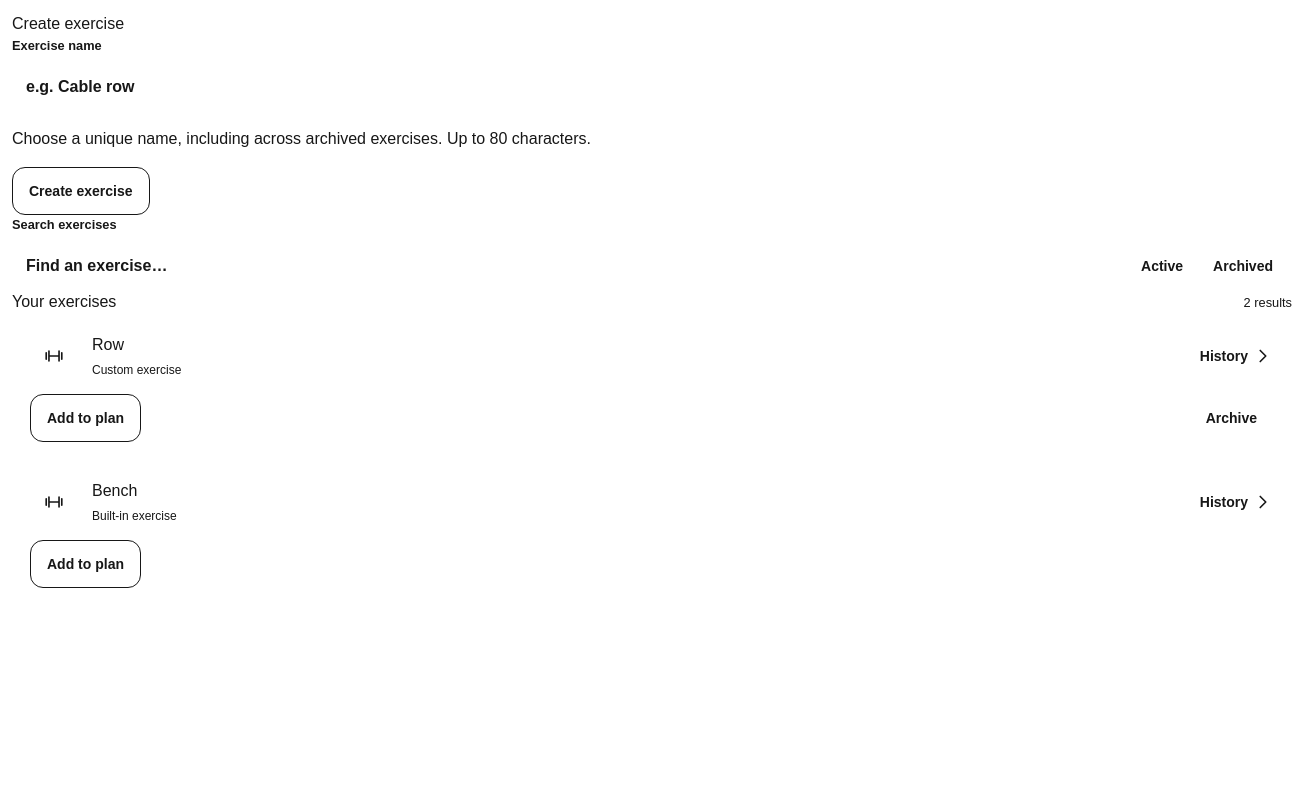
Test case: removes archived rows from active results while preserving search and the creation draft
Type "New move" into the field labelled "Exercise name".
click(652, 87); type("New move")  # box 12,63 -> 1292,111
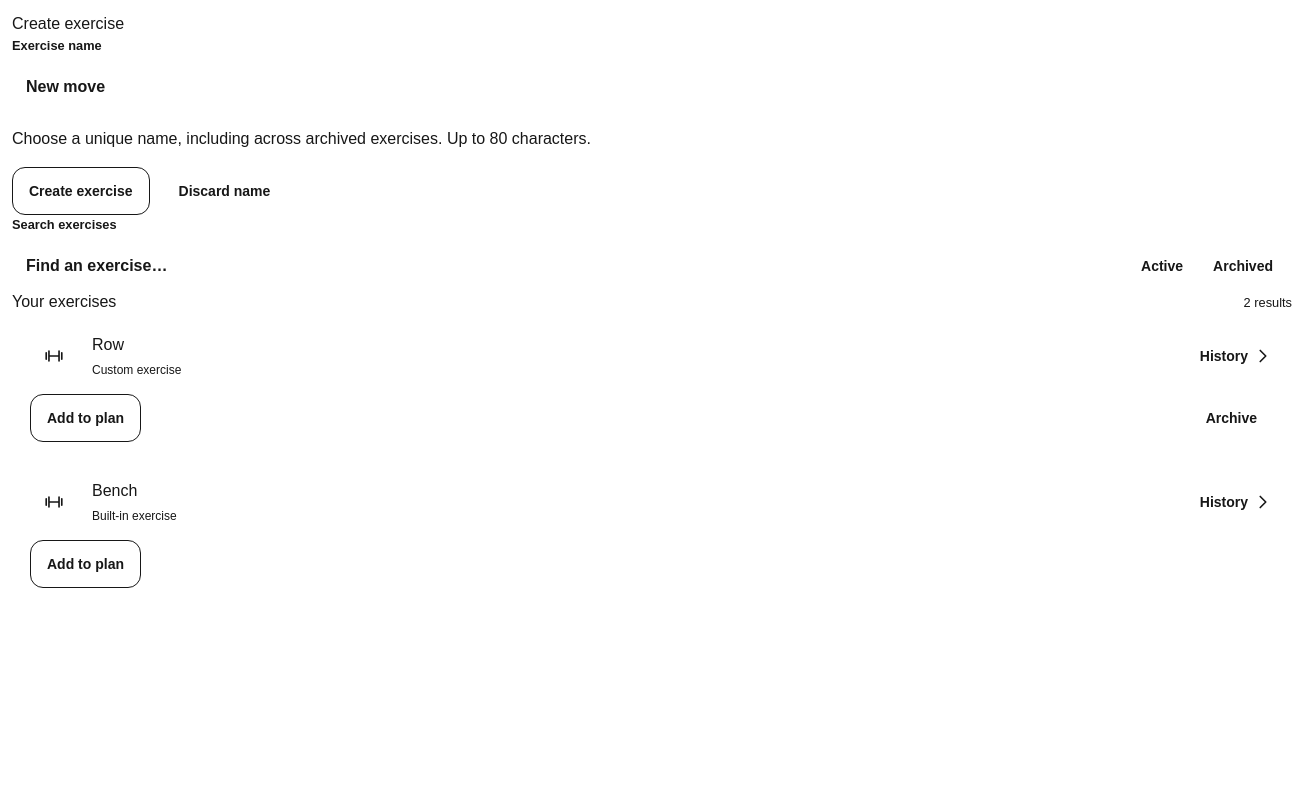
Type "Row" into the search field.
click(559, 266); type("Row")  # box 12,242 -> 1106,290
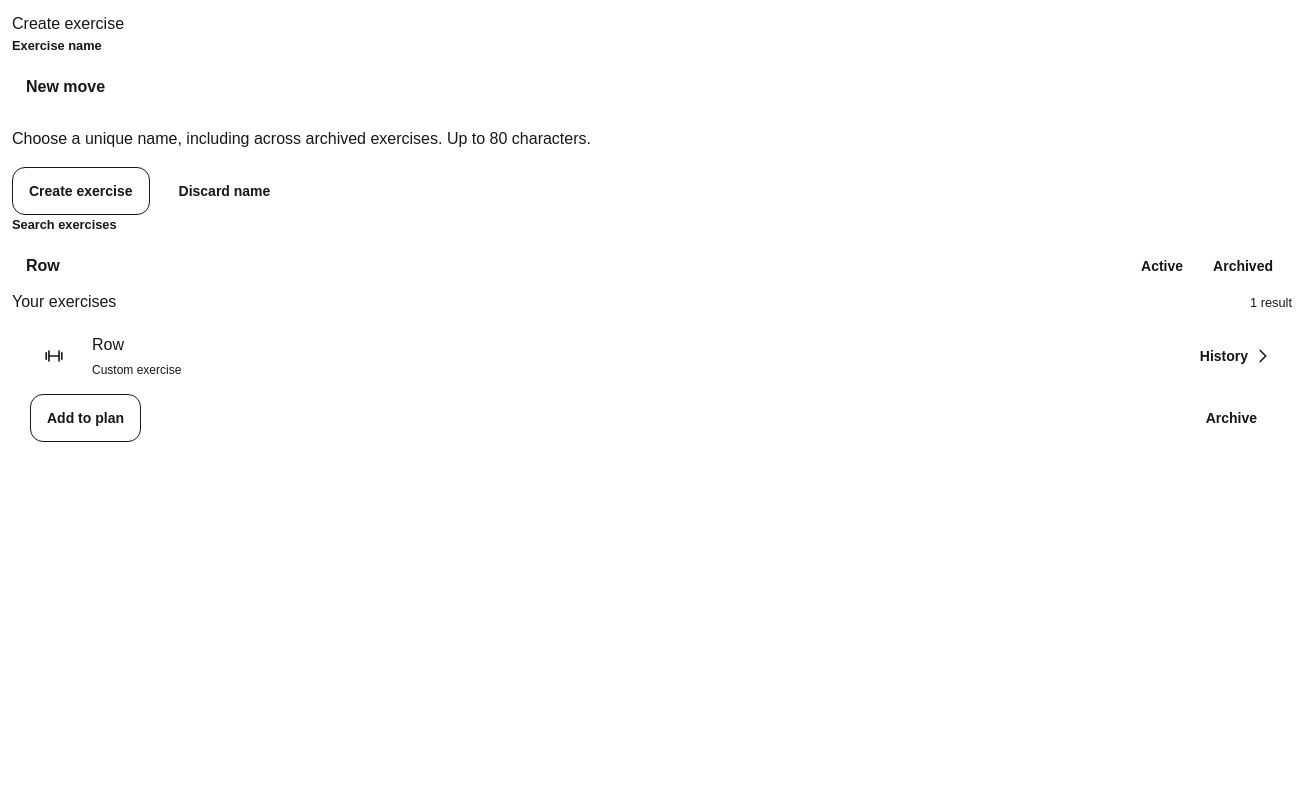
Click the button named "Archive Row".
click(1231, 418)  # box 1189,394 -> 1274,442
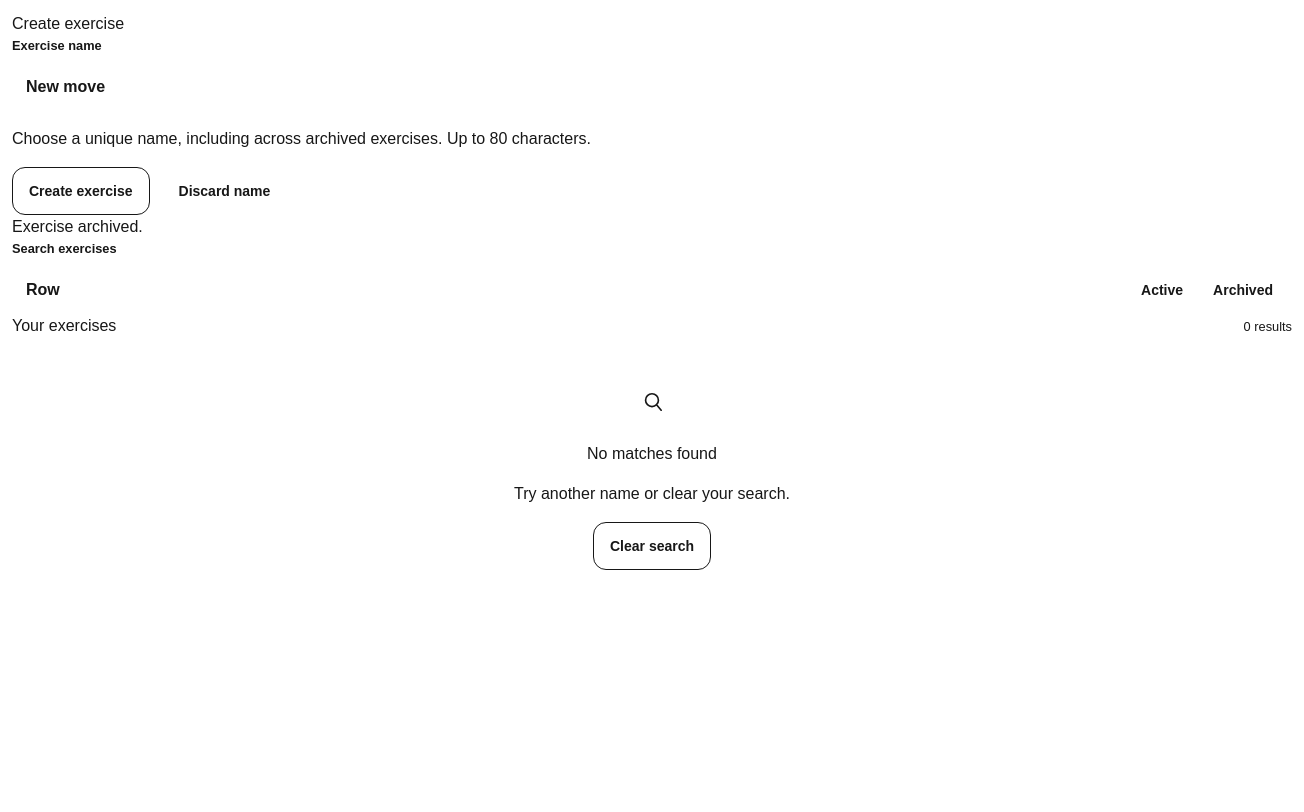
Click the button "Archived".
click(1243, 290)  # box 1198,270 -> 1288,310
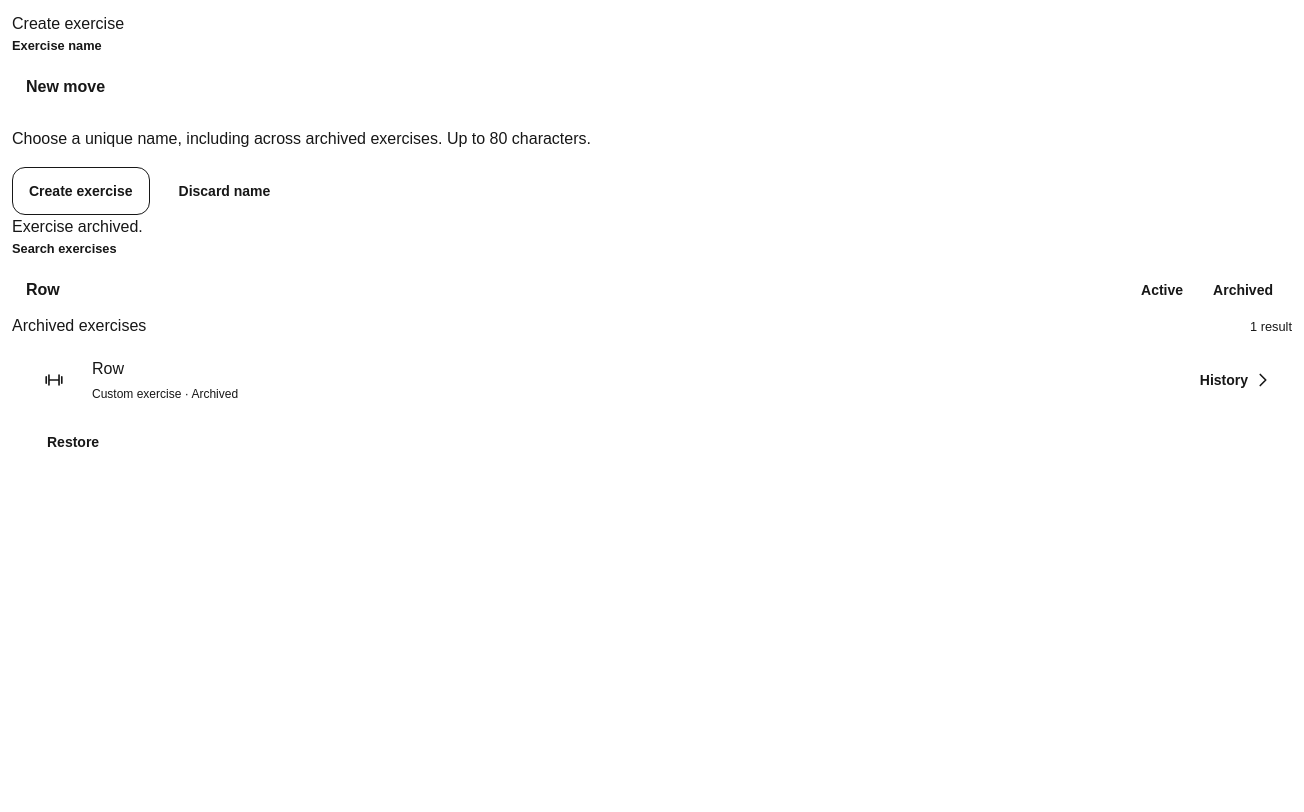
Expected: the button named "Restore Row" is shown, 30,418 -> 116,466
